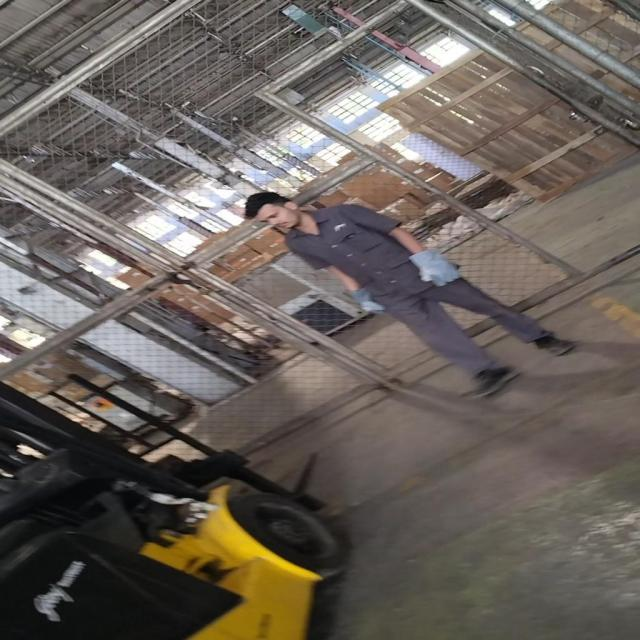Gloves-Detection: (412, 242, 462, 287), (348, 283, 382, 324)
